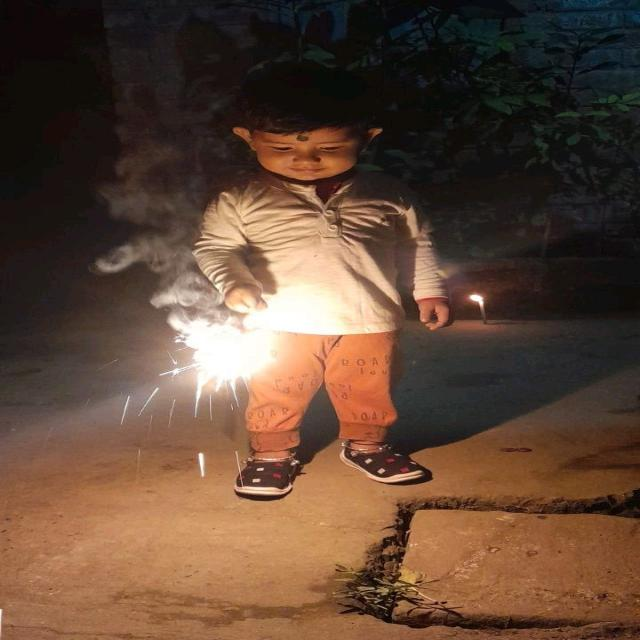fire: (182, 325, 278, 381)
